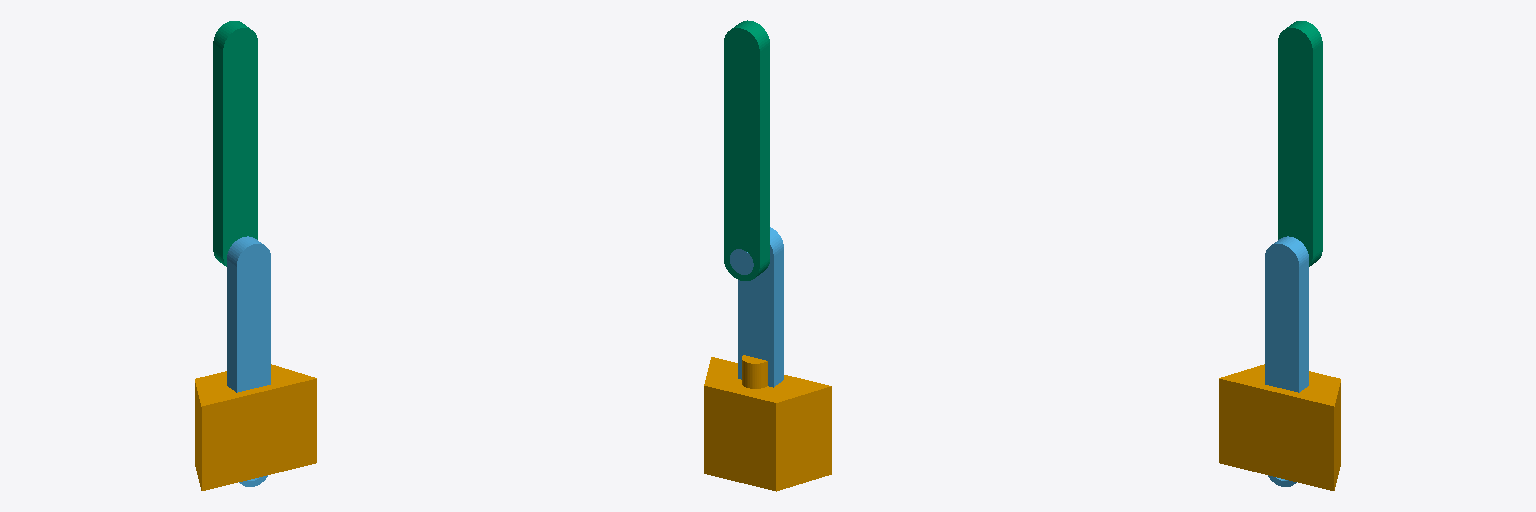
The robot description file, URDF, robot "double_pendulum":
<?xml version='1.0' encoding='utf-8'?>
<!-- 二重振り子 URDF (Isaac Sim 用に最適化) -->
<!-- CAD出力URDFを元に、Isaac Simで正しく表示されるよう座標系を修正 -->
<!-- メッシュファイル(STL)はmmスケール → scale 0.001 で m に変換 -->
<!-- 振り子はZ軸方向（下向き）に吊り下がり、Y軸周りに回転 -->
<robot name="double_pendulum">

    <!-- ============================== -->
    <!-- 台座 (世界に固定) -->
    <!-- ============================== -->
    <link name="base">
        <inertial>
            <origin xyz="0.0 0.020682775993718396 0.033905297119097316" rpy="0 0 0" />
            <mass value="0.2737801766240988" />
            <inertia ixx="0.00016679533675185336" iyy="0.00027398927678538214" izz="0.0001958750687430902"
                     ixy="0.0" iyz="0.0" ixz="0.0" />
        </inertial>
        <visual name="base_visual">
            <!-- CADのY,Z → IsaacのZ,Y 変換: rpy="-π/2 0 0" で回転 -->
            <origin xyz="0.0 0.0 0.0" rpy="-1.5707963267948966 0.0 0.0" />
            <geometry>
                <mesh filename="meshes/base.stl" scale="0.001 0.001 0.001" />
            </geometry>
        </visual>
        <collision name="base_collision">
            <origin xyz="0.0 0.0 0.0" rpy="-1.5707963267948966 0.0 0.0" />
            <geometry>
                <mesh filename="meshes/base.stl" scale="0.001 0.001 0.001" />
            </geometry>
        </collision>
    </link>

    <!-- ============================== -->
    <!-- 関節1: 台座 → リンク1 (Y軸回転) -->
    <!-- ============================== -->
    <!-- CAD: origin xyz="0 -0.02 0.023" rpy="π/2 0 0" axis Z -->
    <!-- 変換: rpy消去, Y,Zを入れ替え, 軸をYに変更 -->
    <joint name="joint1" type="continuous">
        <origin xyz="0.0 0.023 -0.02" rpy="0 0 0" />
        <parent link="base" />
        <child link="link1" />
        <axis xyz="0 1 0" />
        <dynamics damping="0.005" friction="0.0" />
    </joint>

    <!-- ============================== -->
    <!-- リンク1 (上側の棒) -->
    <!-- ============================== -->
    <link name="link1">
        <inertial>
            <!-- CAD: xyz="0 -0.0955 -0.00626" → 回転後: xyz="0 -0.00626 -0.0955" -->
            <origin xyz="0.0 -0.006259995602085407 -0.0955400368710832" rpy="0 0 0" />
            <mass value="0.09399409199209499" />
            <inertia ixx="0.00029467377914367196" iyy="0.0002976746822149684" izz="1.0510242045380947e-05"
                     ixy="0.0" iyz="0.0" ixz="0.0" />
        </inertial>
        <visual name="link1_visual">
            <!-- CAD visual: xyz="0 -0.023 -0.02" rpy="-π/2 0 0" -->
            <!-- 回転後: xyz="0 -0.02 -0.023", rpy補正を結合 → rpy="-π 0 0" (既存-π/2 + 座標変換-π/2) -->
            <origin xyz="0.0 -0.02 -0.023" rpy="-3.141592653589793 0.0 0.0" />
            <geometry>
                <mesh filename="meshes/link1.stl" scale="0.001 0.001 0.001" />
            </geometry>
        </visual>
        <collision name="link1_collision">
            <origin xyz="0.0 -0.02 -0.023" rpy="-3.141592653589793 0.0 0.0" />
            <geometry>
                <mesh filename="meshes/link1.stl" scale="0.001 0.001 0.001" />
            </geometry>
        </collision>
    </link>

    <!-- ============================== -->
    <!-- 関節2: リンク1 → リンク2 (Y軸回転) -->
    <!-- ============================== -->
    <!-- CAD: origin xyz="0 -0.17 0.02" rpy="0 0 0" axis Z -->
    <!-- 変換: Y,Zを入れ替え, 軸をYに変更 -->
    <joint name="joint2" type="continuous">
        <origin xyz="0.0 0.02 -0.17" rpy="0 0 0" />
        <parent link="link1" />
        <child link="link2" />
        <axis xyz="0 1 0" />
        <dynamics damping="0.005" friction="0.0" />
    </joint>

    <!-- ============================== -->
    <!-- リンク2 (下側の棒) -->
    <!-- ============================== -->
    <link name="link2">
        <inertial>
            <!-- CAD: xyz="0 -0.0899 -0.0075" → 回転後: xyz="0 -0.0075 -0.0899" -->
            <origin xyz="0.0 -0.007499999999999995 -0.08986164433626702" rpy="0 0 0" />
            <mass value="0.08733391541761781" />
            <inertia ixx="0.0002526481818618852" iyy="0.0002575997390773079" izz="8.226579043583588e-06"
                     ixy="0.0" iyz="0.0" ixz="0.0" />
        </inertial>
        <visual name="link2_visual">
            <!-- CAD visual: xyz="0 0.147 -0.04" rpy="-π/2 0 0" -->
            <!-- 回転後: xyz="0 -0.04 0.147", rpy補正を結合 → rpy="-π 0 0" -->
            <origin xyz="0.0 -0.04 0.147" rpy="-3.141592653589793 0.0 0.0" />
            <geometry>
                <mesh filename="meshes/link2.stl" scale="0.001 0.001 0.001" />
            </geometry>
        </visual>
        <collision name="link2_collision">
            <origin xyz="0.0 -0.04 0.147" rpy="-3.141592653589793 0.0 0.0" />
            <geometry>
                <mesh filename="meshes/link2.stl" scale="0.001 0.001 0.001" />
            </geometry>
        </collision>
    </link>

</robot>

--- Facts derived from the render (not from the file) ---
3 views of the same robot in one strip: view 1: azimuth 30°, elevation 25°; view 2: azimuth 150°, elevation 25°; view 3: azimuth 330°, elevation 25° (orthographic).
Robot: double_pendulum — 3 links, 2 joints (2 continuous); root link base; default pose: every joint at zero.
Visible links, largest first — view 1: base, link2, link1; view 2: base, link2, link1; view 3: base, link2, link1.
Link boxes in pixels (bbox=[...]): base: bbox=[195, 364, 316, 490]; link2: bbox=[213, 21, 257, 266]; link1: bbox=[227, 236, 270, 486]; base: bbox=[704, 355, 831, 491]; link2: bbox=[724, 20, 769, 280]; link1: bbox=[730, 227, 783, 387]; base: bbox=[1219, 364, 1340, 490]; link2: bbox=[1278, 21, 1322, 266]; link1: bbox=[1265, 236, 1308, 486].
Bounding box of the posed robot: 0.1 × 0.045 × 0.37 m (x, y, z).
3 mesh visuals loaded from 3 distinct referenced files (3 binary STL).
